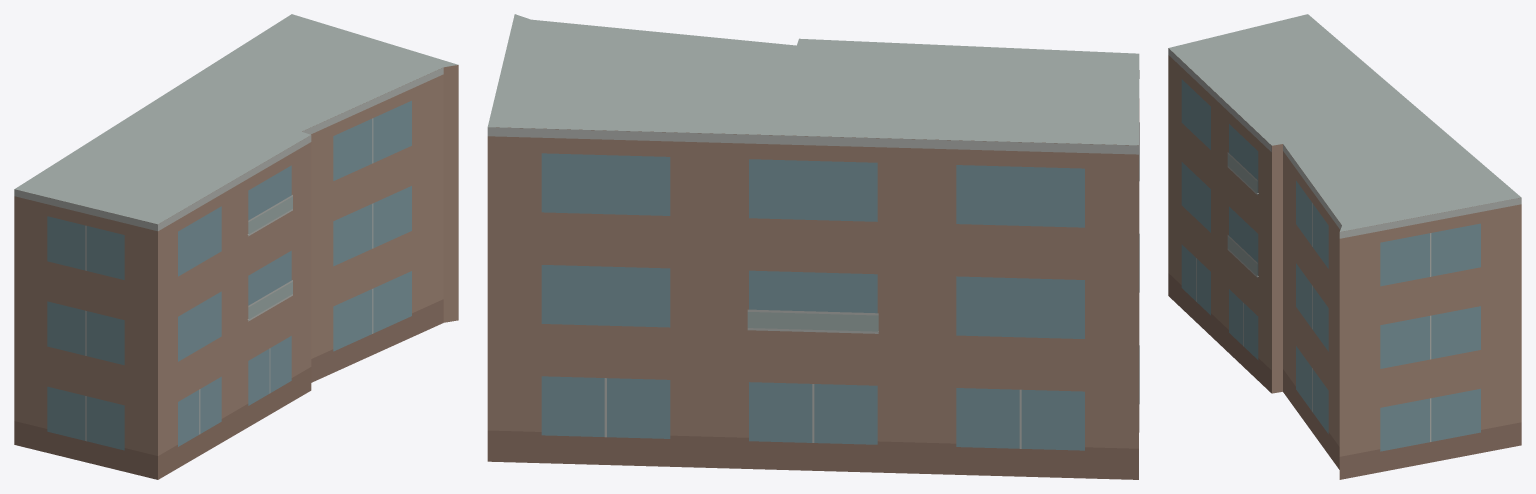
Rendered from survey-upis-32932233.glb.
3 renders of one model, left to right at view 1: azimuth 30°, elevation 25°; view 2: azimuth 150°, elevation 25°; view 3: azimuth 270°, elevation 25°, orthographic. The views are drawn at different scales.
Visible parts, largest first — view 1: survey-upis-32932233.tmp; view 2: survey-upis-32932233.tmp; view 3: survey-upis-32932233.tmp.
Boxes of the visible parts, box(x1,y1,x2,y2) form: survey-upis-32932233.tmp: box(14, 14, 458, 479); survey-upis-32932233.tmp: box(487, 14, 1139, 479); survey-upis-32932233.tmp: box(1168, 14, 1521, 479).
Bounding box in the file's own units: 16.8 × 8.9 × 11.5.
